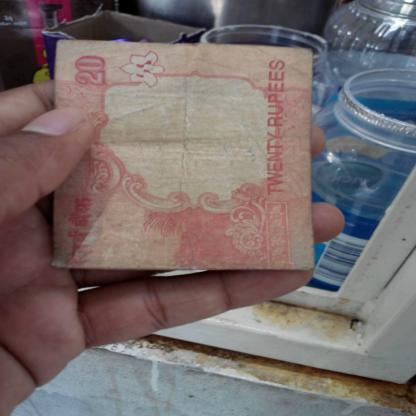Old20Back: (56, 43, 312, 270)
